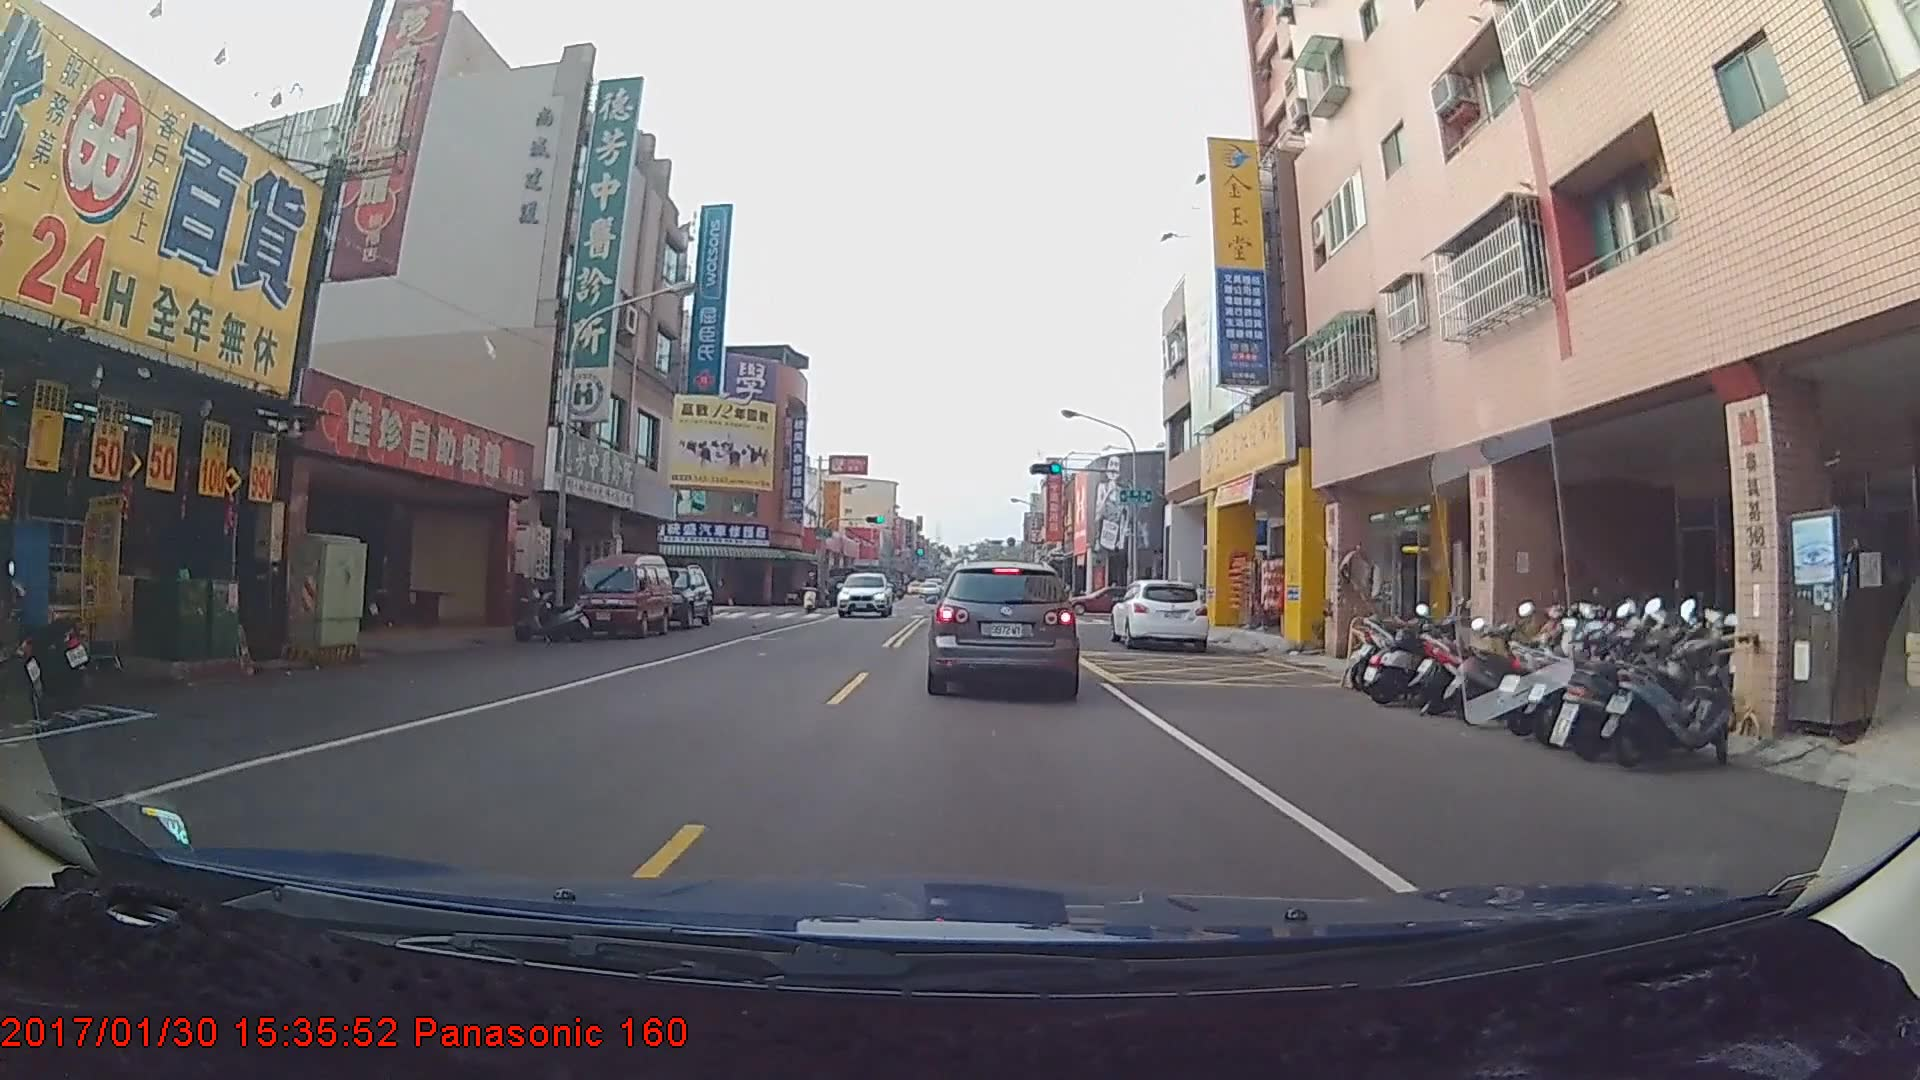rider: (803, 574, 826, 617)
vehicle: (931, 558, 1077, 696), (573, 555, 675, 639), (1111, 577, 1209, 651), (638, 565, 715, 631), (834, 572, 886, 616)
